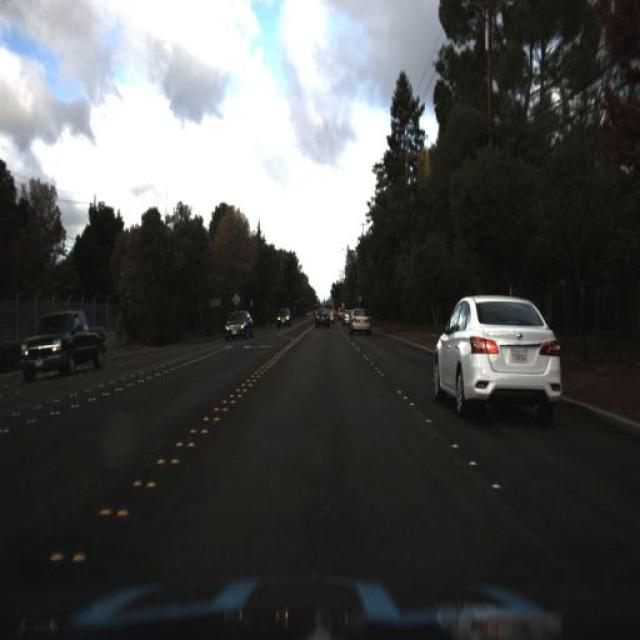car: (434, 290, 566, 416), (19, 308, 107, 381), (221, 307, 255, 343), (344, 304, 372, 338), (274, 308, 294, 331), (313, 308, 332, 332)
